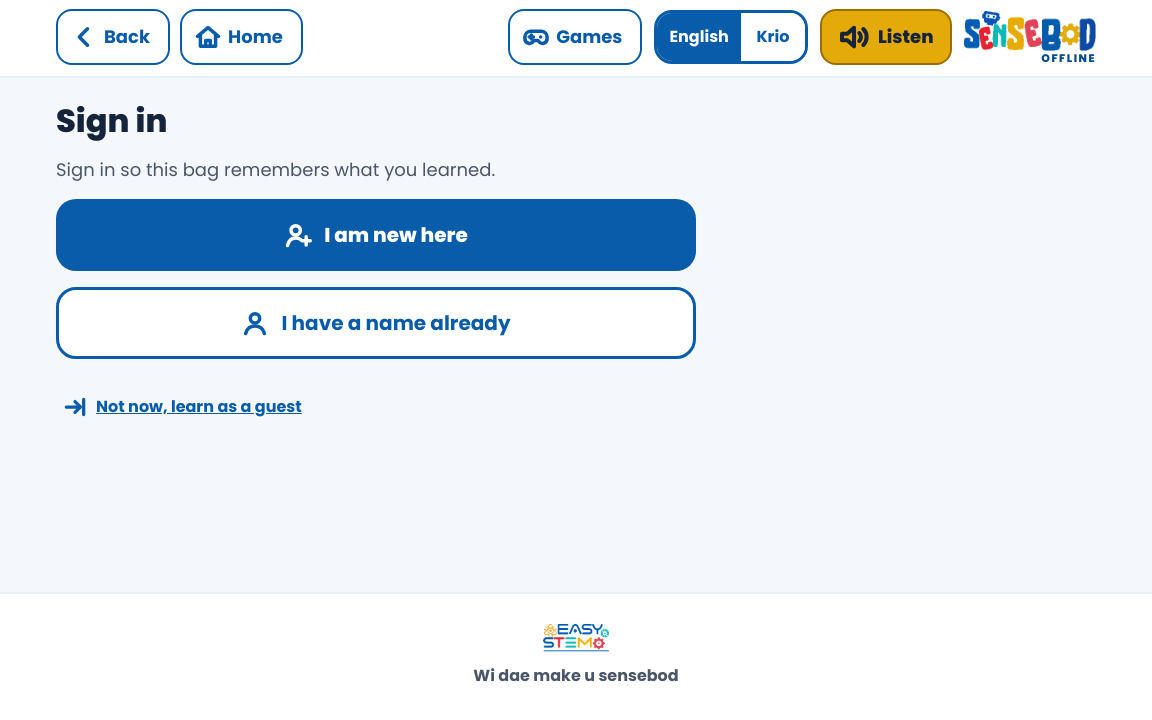
Sign in (V3-SignIn, with a secret number) › two learners with the same name are told apart by their numbers, and each signs in again as themselves
The width and height of the screenshot is (1152, 720).
Later steps or results of the test are not shown.
Step 1. Click the button "I am new here" → {"x": 376, "y": 235}, box [56,199,696,271]
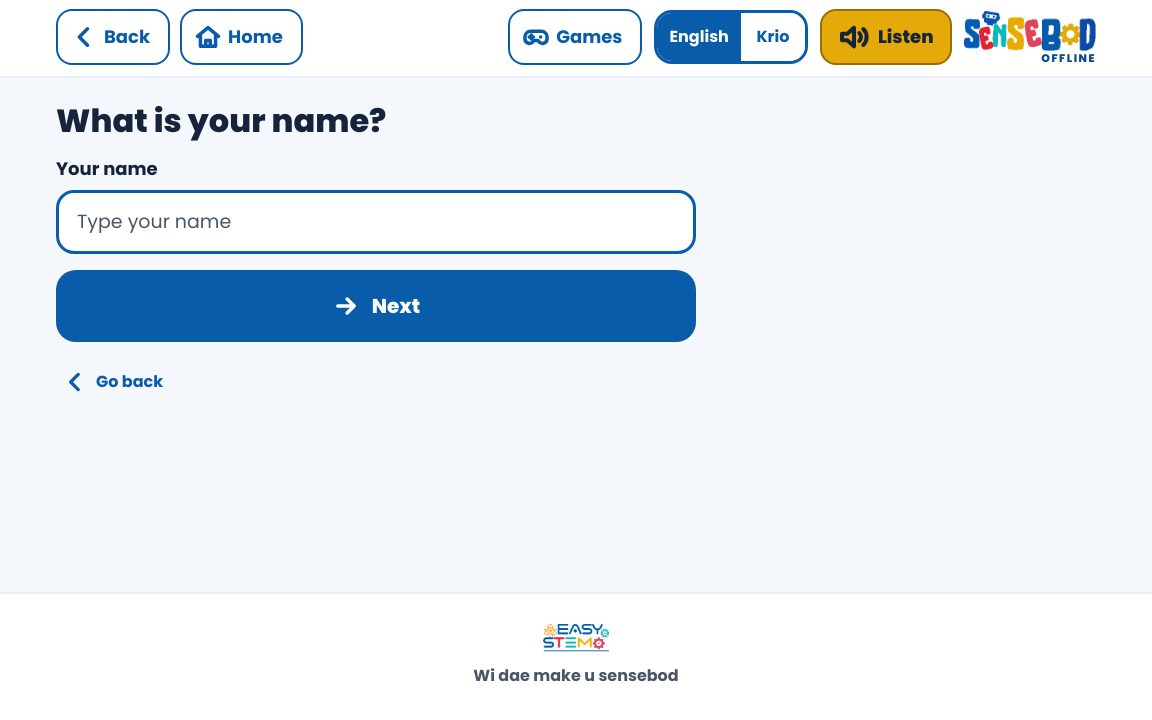
Step 2. Type "Abdul" into the field labelled "Your name" → {"x": 376, "y": 222}, box [56,190,696,254]
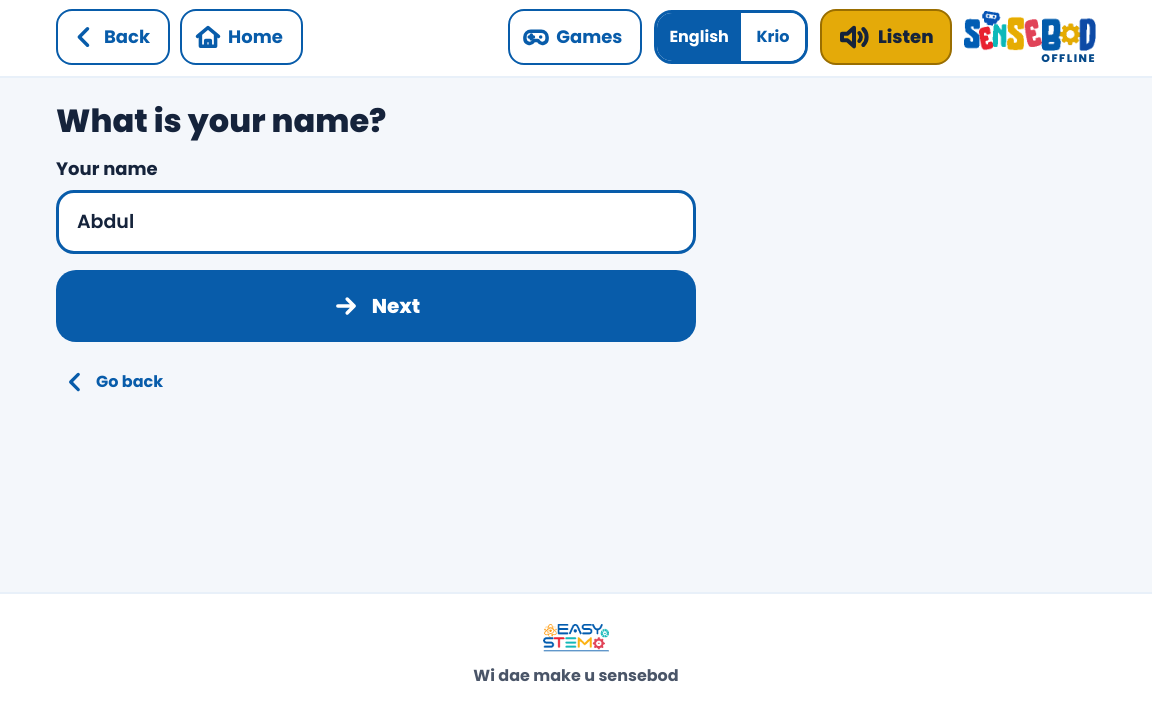
Step 3. Click the button "Next" → {"x": 376, "y": 306}, box [56,270,696,342]
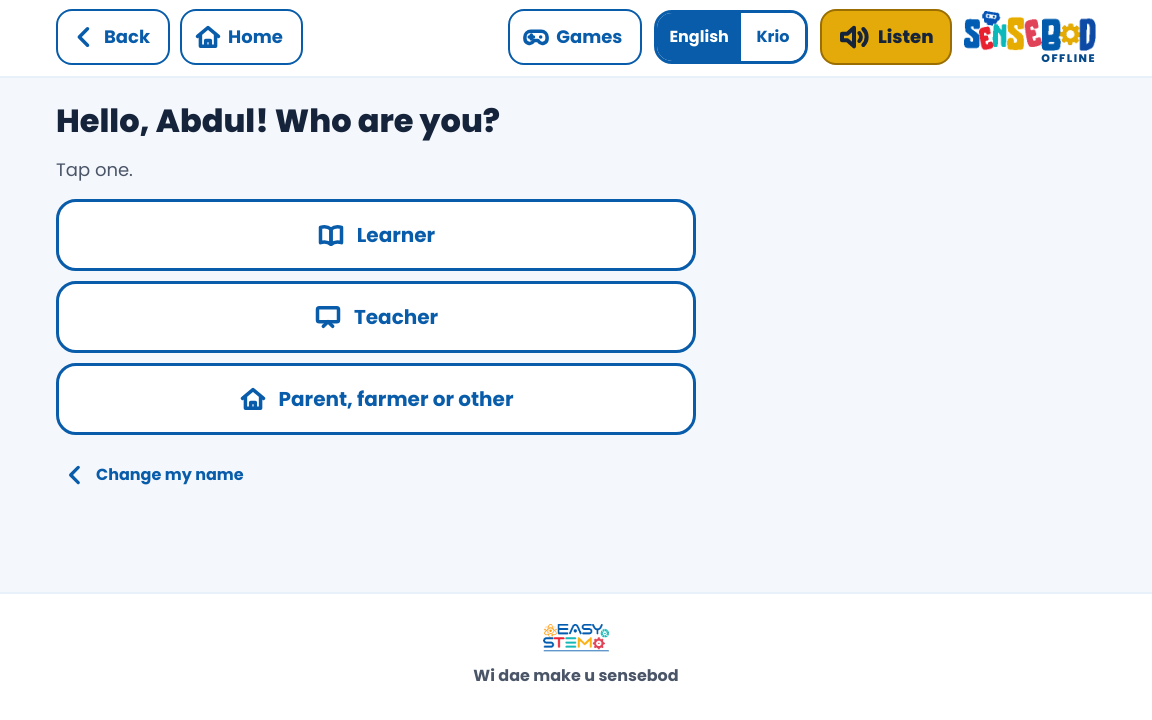
Step 4. Click the button "Learner" → {"x": 376, "y": 235}, box [56,199,696,271]
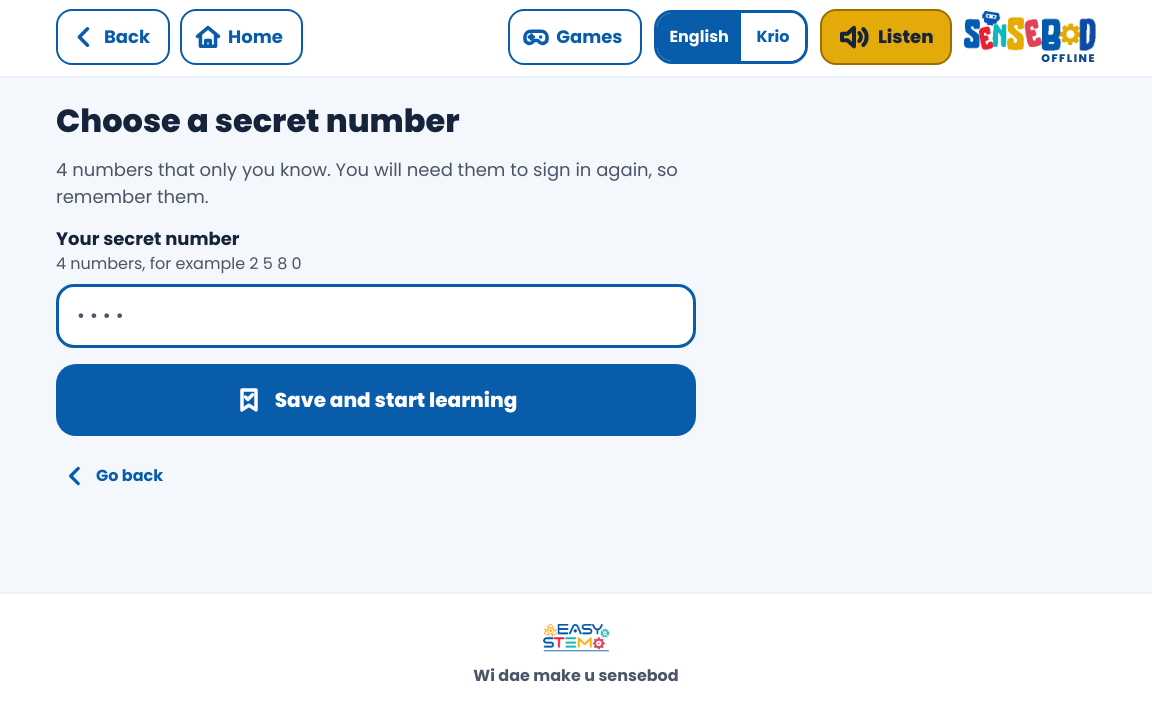
Step 5. Type "1111" into the field labelled "Your secret number" → {"x": 376, "y": 316}, box [56,284,696,348]
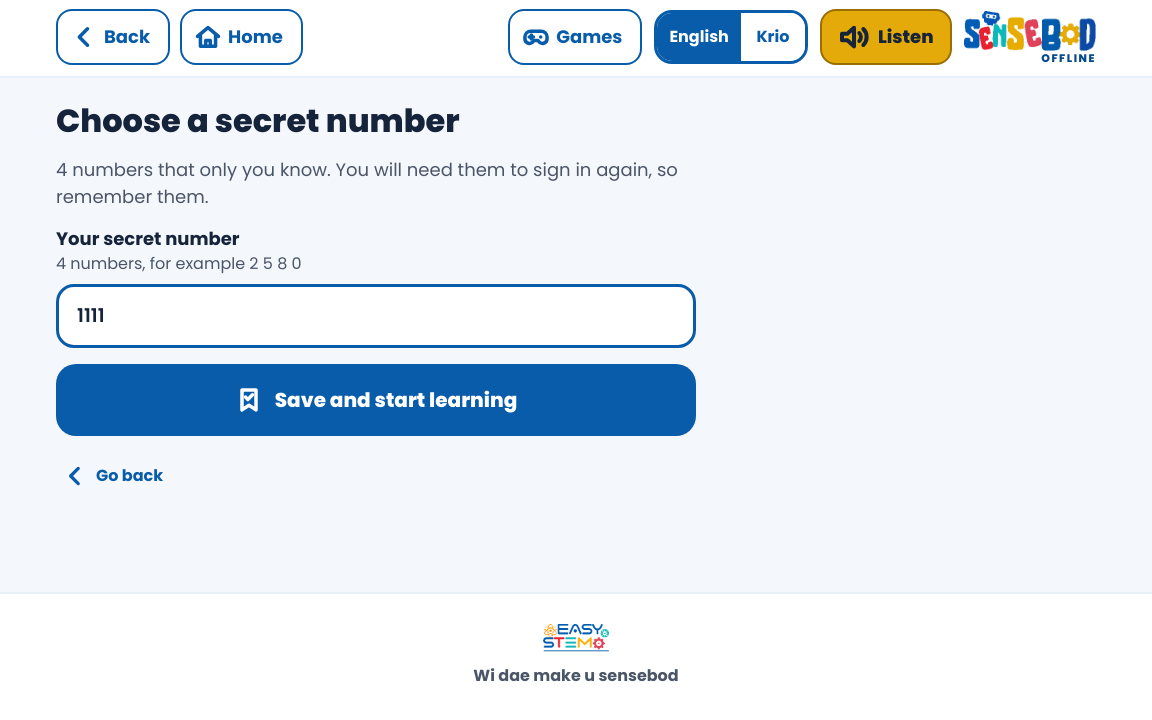
Step 6. Click the button "Save and start learning" → {"x": 376, "y": 400}, box [56,364,696,436]
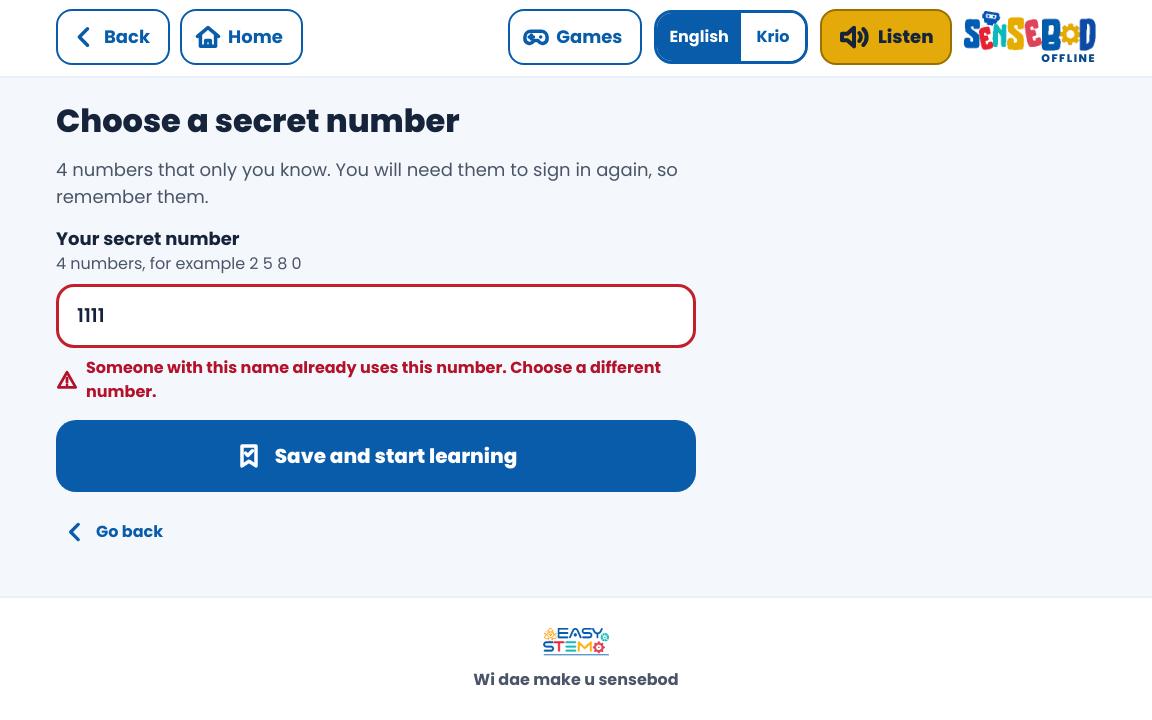
Check: the message shows "Choose a different number.", box [86,356,661,403]
